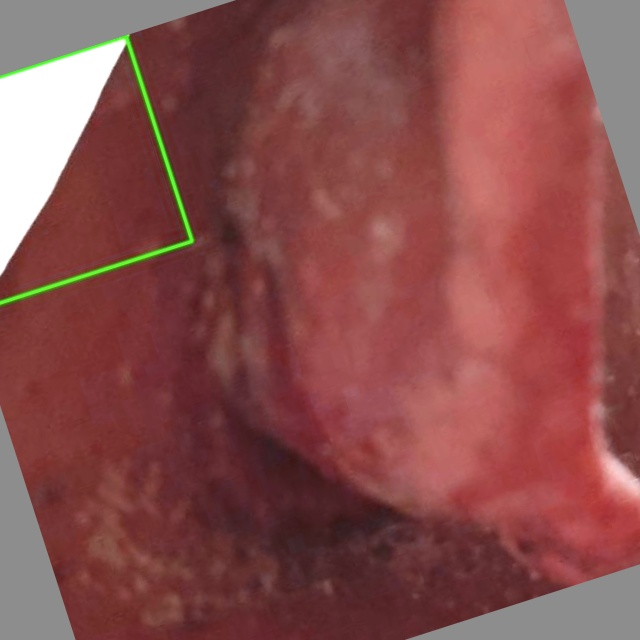Contact Dermatitis: (0, 35, 191, 302)
